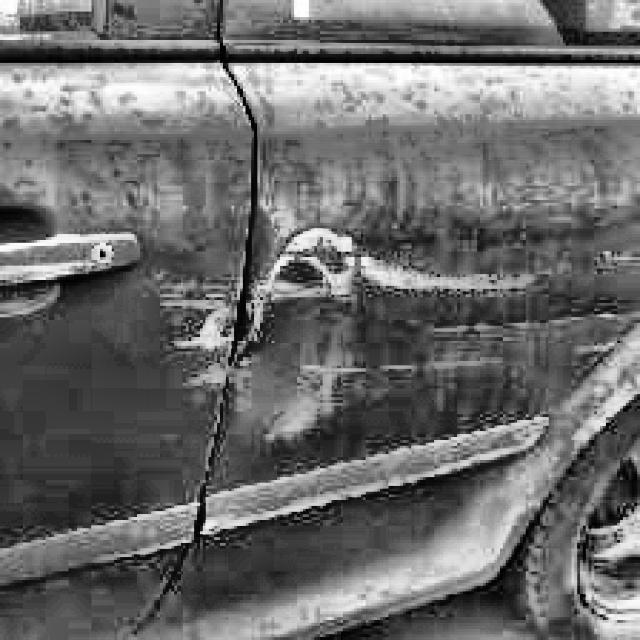door_dent: (253, 270, 338, 429)
